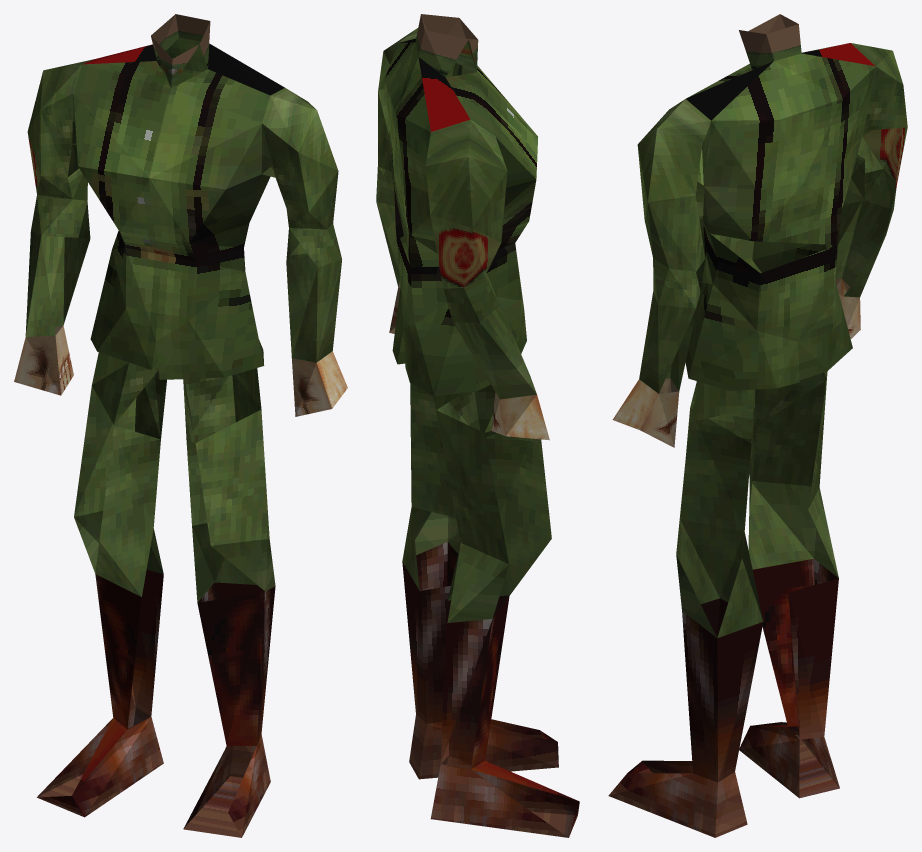
File: primary_028.glb
3 views of the same model, side by side, from view 1: azimuth 30°, elevation 25°; view 2: azimuth 150°, elevation 25°; view 3: azimuth 270°, elevation 25° (orthographic). The views are drawn at different scales.
Visible parts, largest first — view 1: Object; view 2: Object; view 3: Object.
Boxes of the visible parts, box(x1,y1,x2,y2) form: Object: box(14, 14, 347, 837); Object: box(376, 14, 579, 837); Object: box(608, 14, 907, 837).
Bounding box in the file's own units: 0.6105 × 1.83 × 0.6303.
Materials: 64 (64 with a texture image).
